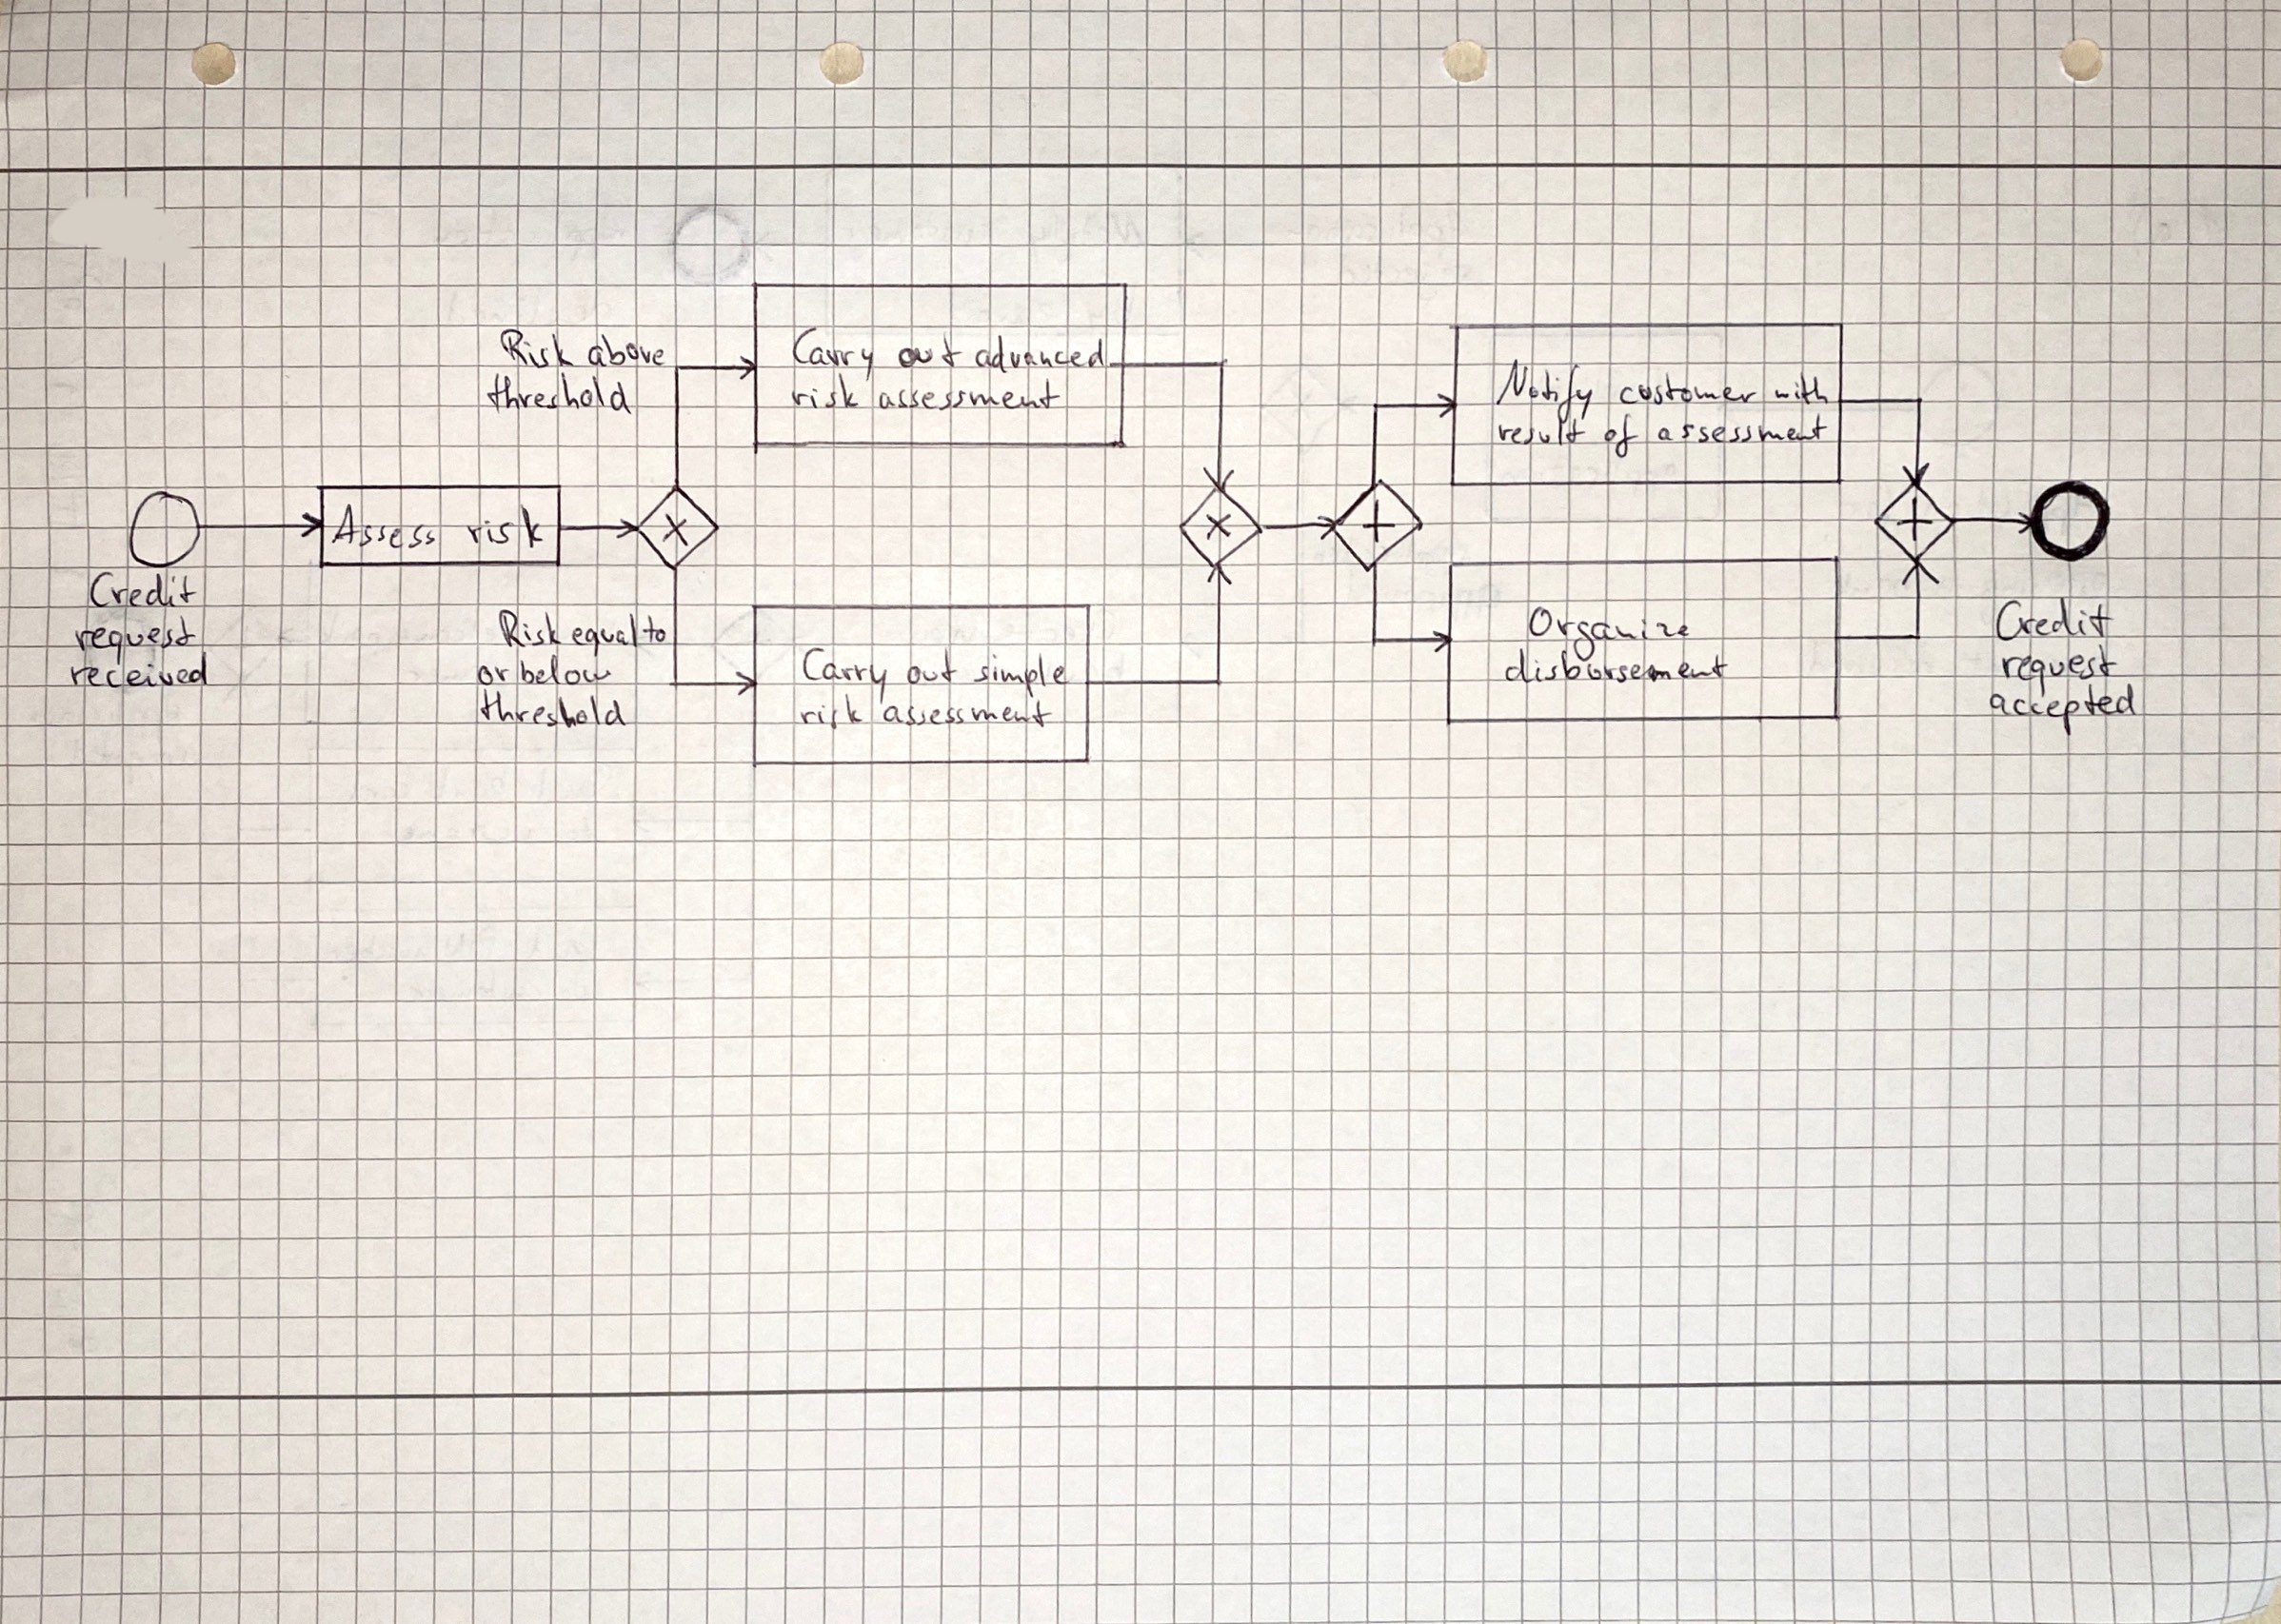Assess: (327, 501, 439, 554)
Carry: (800, 643, 893, 707), (789, 323, 880, 385)
Credit: (1991, 594, 2118, 645), (84, 568, 202, 613)
Notify: (1492, 357, 1596, 427)
Organize: (1525, 603, 1692, 666)
Risk: (496, 323, 575, 373), (494, 605, 568, 654)
above: (582, 330, 670, 373)
accepted: (1984, 680, 2142, 743)
advanced: (970, 332, 1109, 376)
assessment: (873, 374, 1065, 417), (1652, 413, 1831, 452), (879, 696, 1054, 731)
below: (517, 650, 615, 691)
customer: (1615, 369, 1764, 410)
disbursement: (1499, 645, 1734, 689)
equal: (568, 608, 643, 661)
of: (1599, 410, 1643, 462)
or: (473, 657, 515, 689)
out: (893, 327, 968, 376), (902, 643, 963, 691)
received: (65, 647, 214, 694)
request: (69, 612, 202, 670), (1996, 642, 2123, 701)
result: (1490, 411, 1590, 452)
risk: (460, 499, 548, 552), (794, 691, 870, 735), (789, 371, 863, 413)
simple: (968, 649, 1072, 703)
threshold: (476, 684, 631, 733), (483, 371, 638, 418)
to: (640, 612, 671, 649)
with: (1770, 371, 1833, 410)
